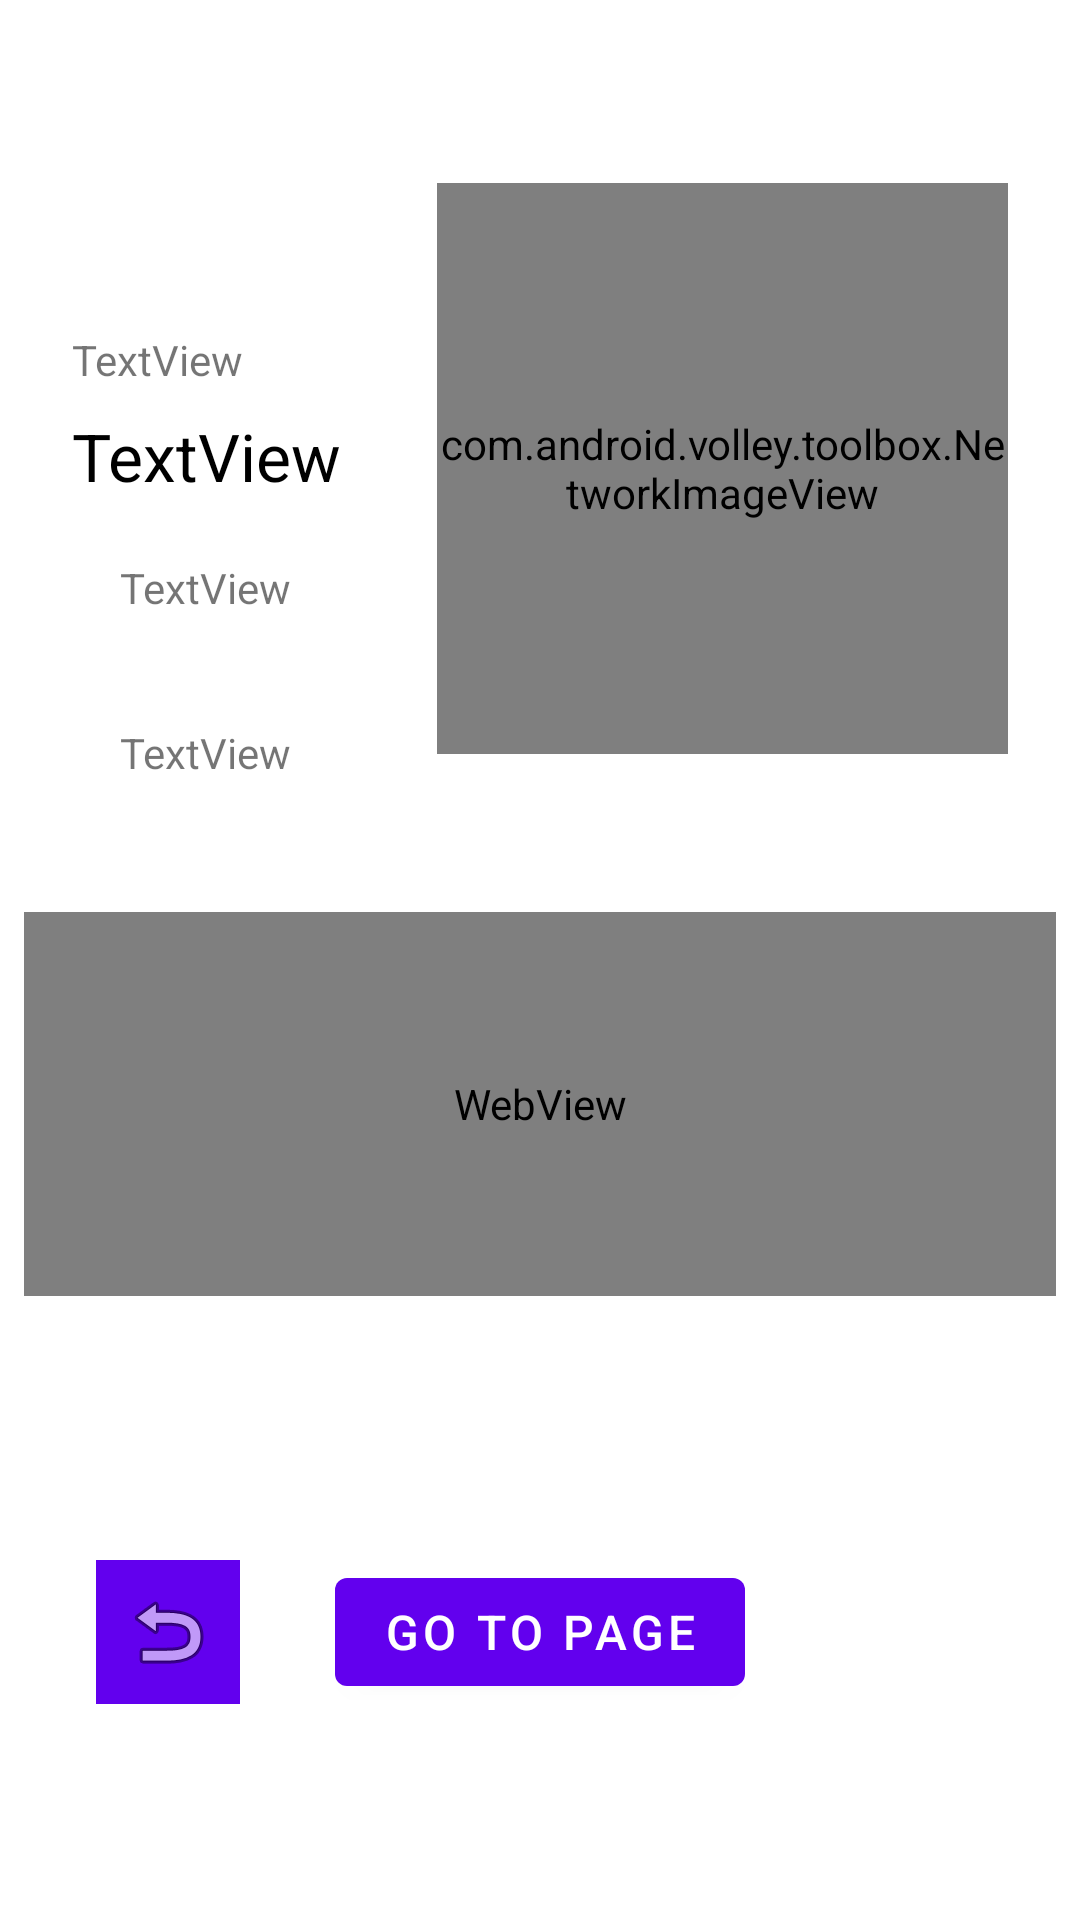

Where icons sit on this 1080px×1920px app screen, as [x1,y1,x2,y2]:
revert: [96,1560,240,1704]
